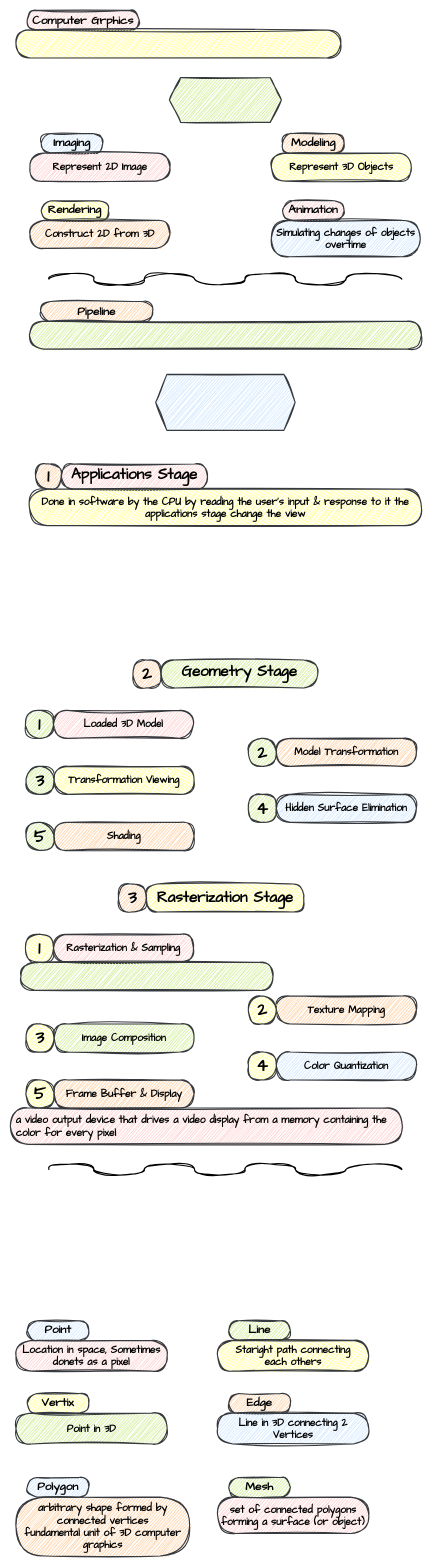
The diagram is 435 pixels wide and 1566 high, and some of its shapes have lost their labels. The centre of each missing label's shape, as x and y in pixels:
"Computer Graphics Tasks" goes at point (225, 100).
"Convert vertix information into pixel information" goes at point (146, 976).
"Divide the process into stages to transform 3D to 2D repsentation on a screen" goes at point (225, 334).
"Graphics & Rendering Pipeline" goes at point (225, 402).
"It's the use of computer to create and manipulate images" goes at point (178, 43).
